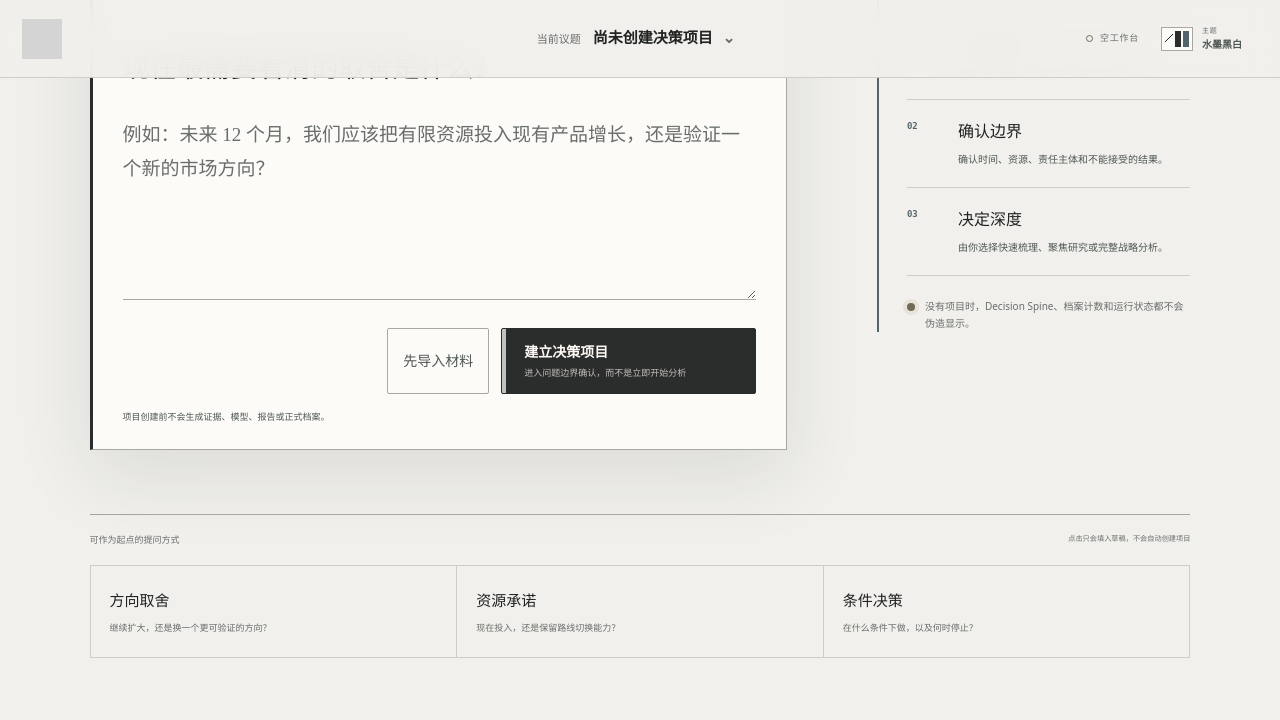
Test: DecisionShell Look V7 release gates › keeps empty submit human-owned and returns focus to the question
(page scrolled)
Click the button "建立决策项目 进入问题边界确认，而不是立即开始分析". click: click(629, 361)
box: top-left (501, 328), bottom-right (756, 394)
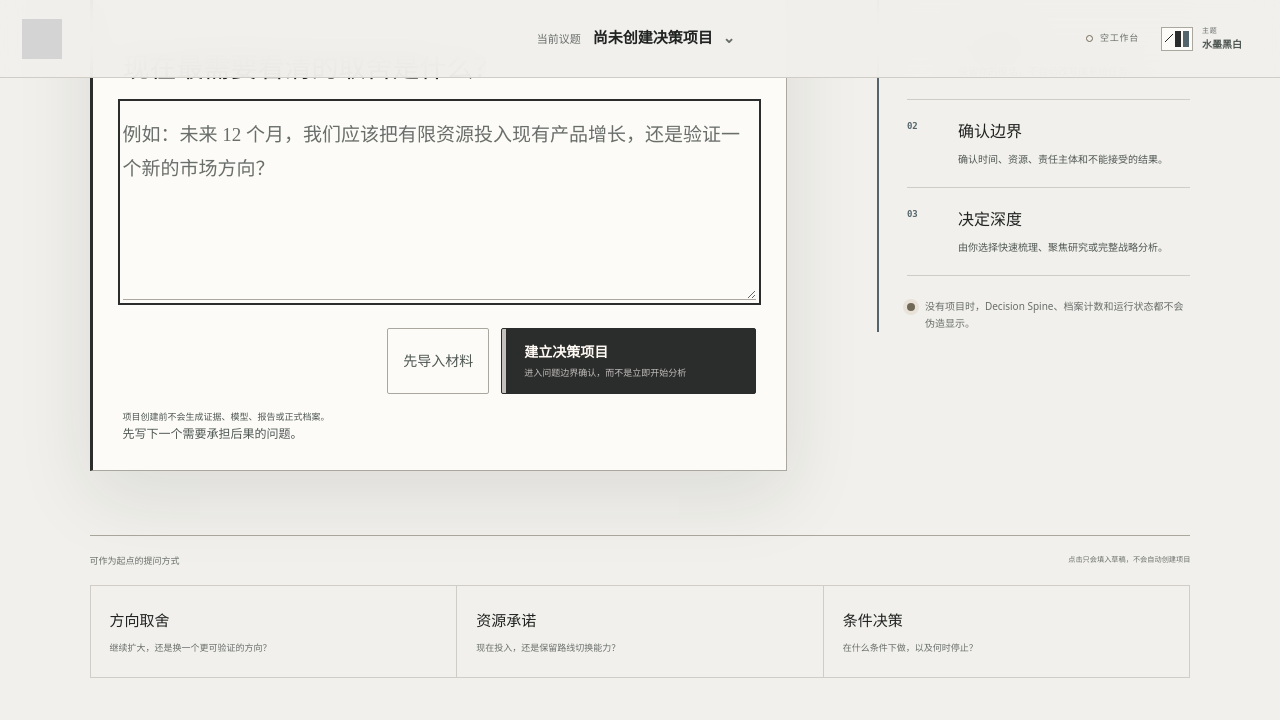
Expected: the message reads "先写下一个需要承担后果的问题。", top-left (123, 425), bottom-right (303, 442)
